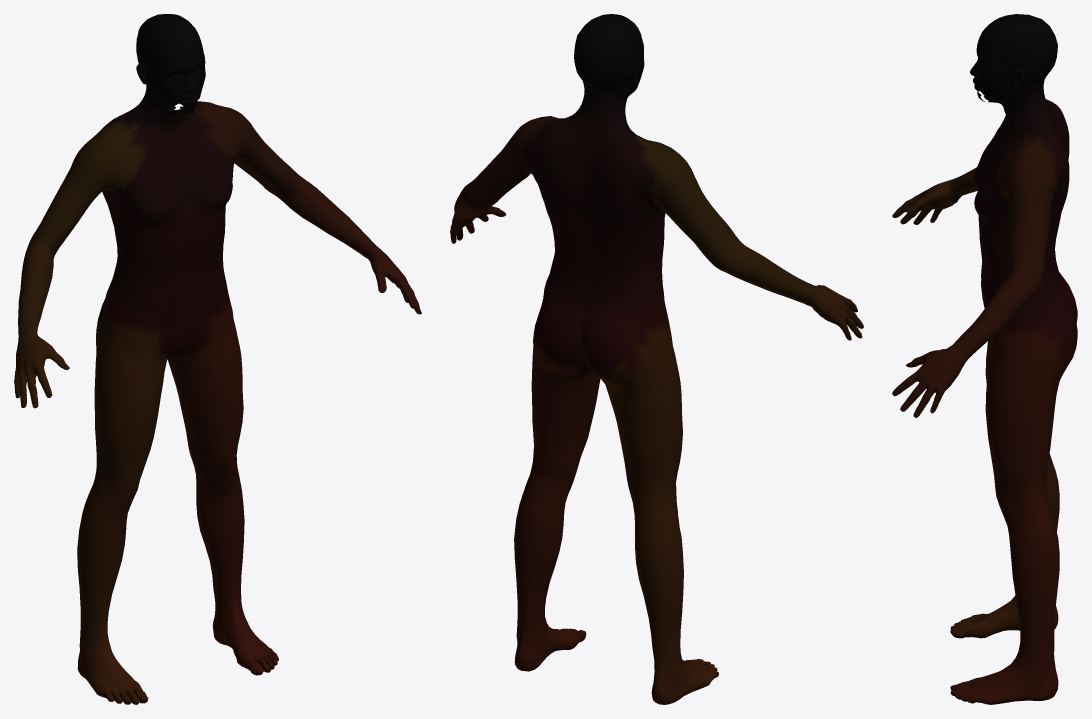
File: body-neutral.glb
3 renders of one model, left to right at view 1: azimuth 30°, elevation 25°; view 2: azimuth 150°, elevation 25°; view 3: azimuth 270°, elevation 25°, orthographic.
Visible parts, largest first — view 1: body; view 2: body; view 3: body.
Part boxes in pixels (x1,y1,x2,y2): body: [14, 14, 421, 704]; body: [450, 14, 863, 704]; body: [892, 14, 1077, 704].
Bounding box in the file's own units: 2.22 × 3.46 × 0.8978.
